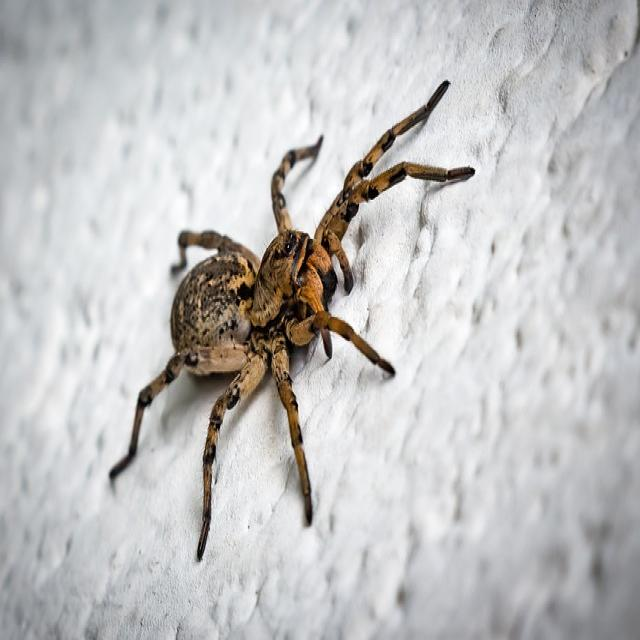spyder: (110, 83, 474, 559)
